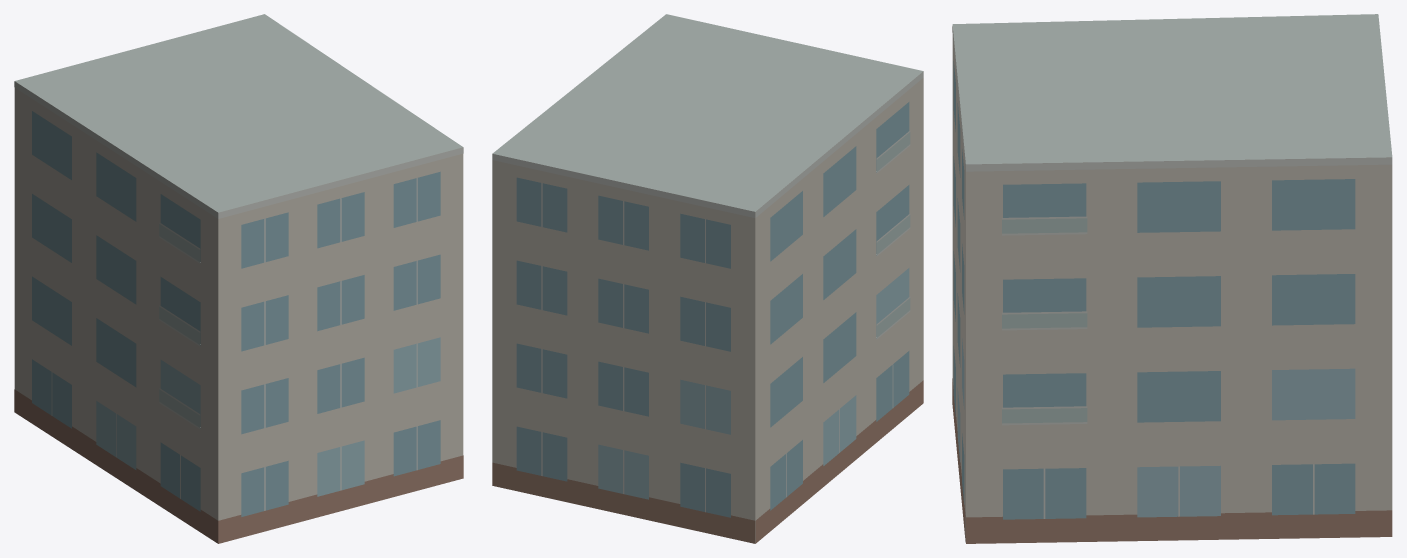
Rendered from survey-upis-32810929.glb.
The picture shows the model from 3 angles, left to right: view 1: azimuth 30°, elevation 25°; view 2: azimuth 150°, elevation 25°; view 3: azimuth 270°, elevation 25°; orthographic projection. The views are drawn at different scales.
Parts seen in each view (by area): view 1: survey-upis-32810929.tmp; view 2: survey-upis-32810929.tmp; view 3: survey-upis-32810929.tmp.
Boxes of the visible parts, <box> form: survey-upis-32810929.tmp: <box>14,14,463,543</box>; survey-upis-32810929.tmp: <box>492,14,923,543</box>; survey-upis-32810929.tmp: <box>952,14,1392,543</box>.
Size of the model in its own units: 10.89 by 12.8 by 13.46.
